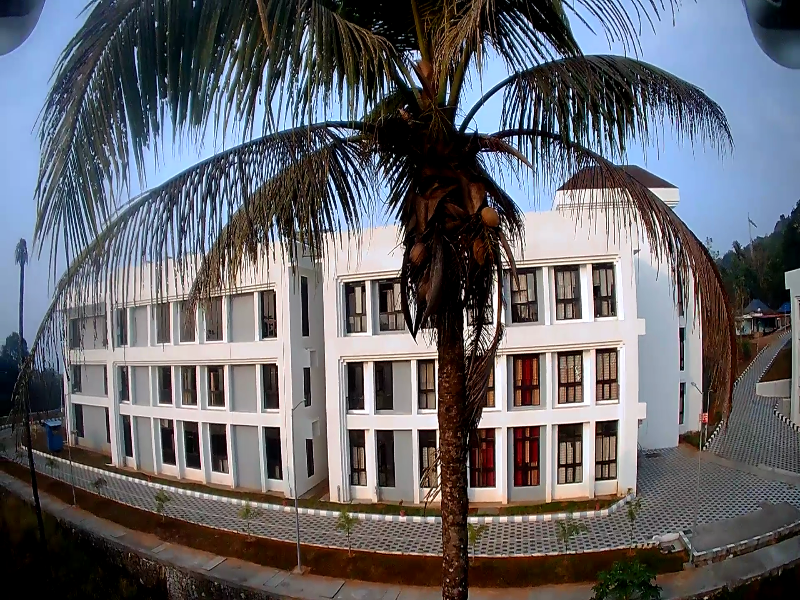coconut: (468, 237, 491, 259), (477, 207, 501, 228), (415, 280, 435, 298), (406, 244, 423, 257)
